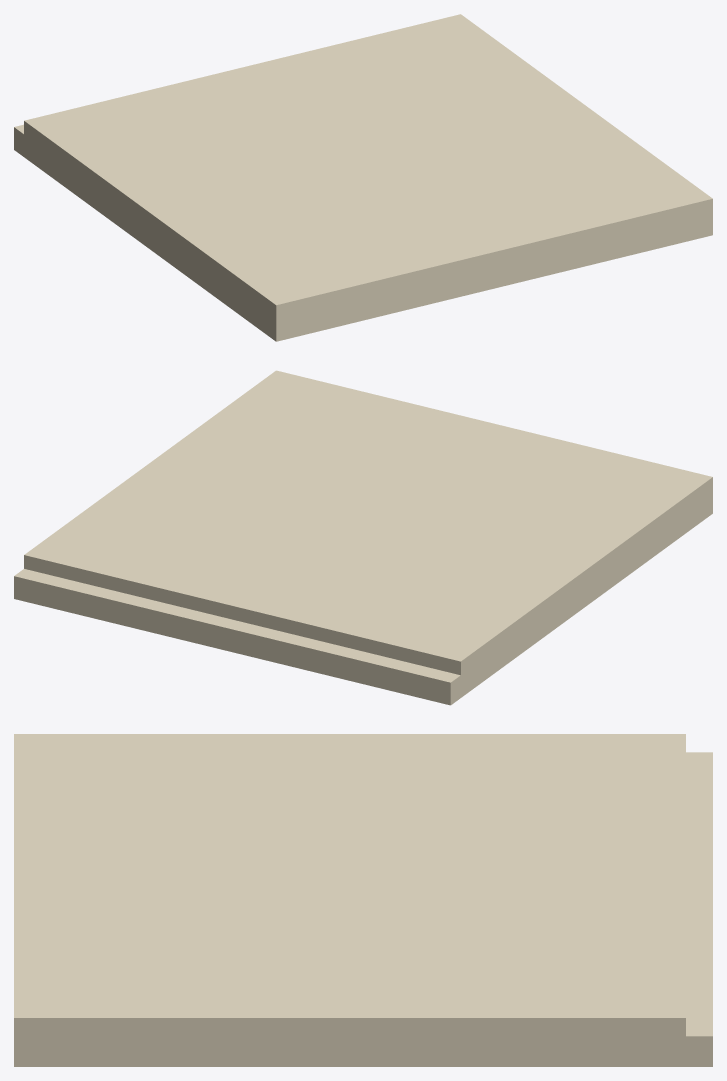
The model's file is kit_coffer.glb.
3 views of the same model, one above another, from view 1: azimuth 30°, elevation 25°; view 2: azimuth 150°, elevation 25°; view 3: azimuth 270°, elevation 25° (orthographic). The views are drawn at different scales.
Visible parts, largest first — view 1: kit_coffer; view 2: kit_coffer; view 3: kit_coffer.
Boxes of the visible parts, x1=… form: kit_coffer: x1=14, y1=14, x2=712, y2=341; kit_coffer: x1=14, y1=370, x2=712, y2=705; kit_coffer: x1=14, y1=734, x2=712, y2=1066.
Size of the model in its own units: 2 by 0.31 by 2.08.
